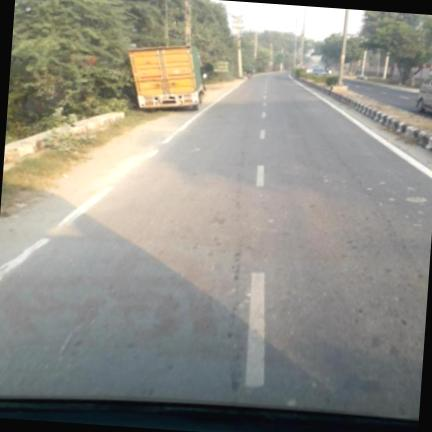Road: (0, 74, 431, 417)
